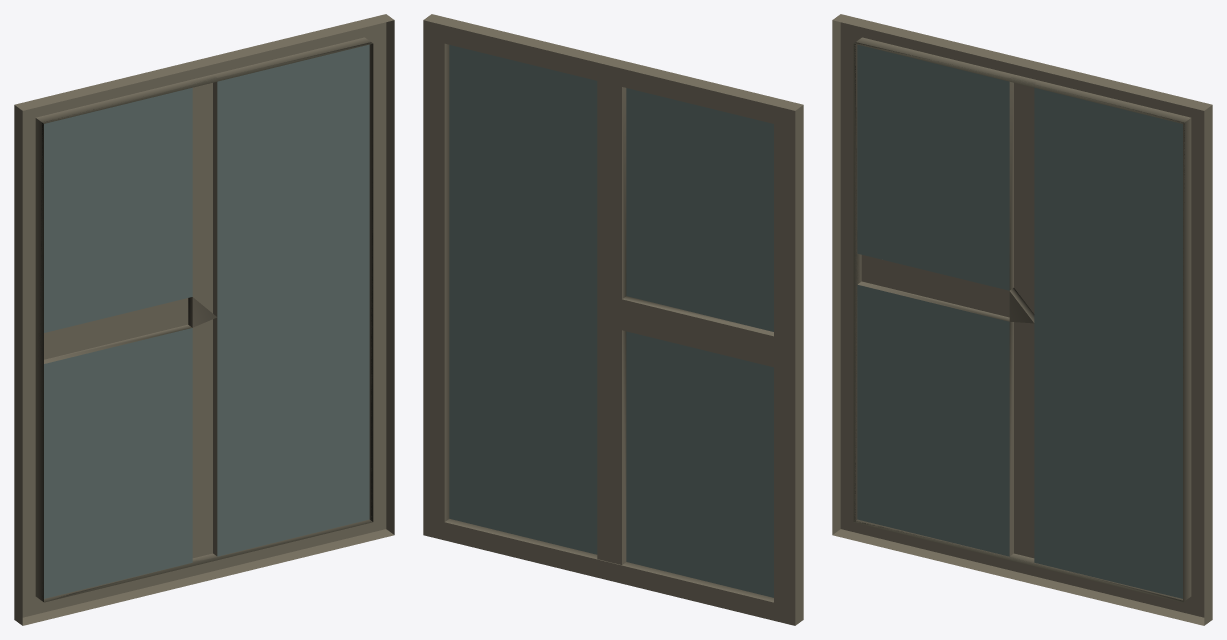
File: Flat_old_window_white_2.fbx
The picture shows the model from 3 angles, left to right: view 1: azimuth 30°, elevation 25°; view 2: azimuth 150°, elevation 25°; view 3: azimuth 330°, elevation 25°; orthographic projection.
Parts seen in each view (by area): view 1: Flat_old_window_white_2; view 2: Flat_old_window_white_2; view 3: Flat_old_window_white_2.
Boxes of the visible parts, x1,y1,x2,y2 form: Flat_old_window_white_2: (14,14,394,625); Flat_old_window_white_2: (423,14,803,625); Flat_old_window_white_2: (832,14,1212,625).
Bounding box in the file's own units: 2.39 × 0.0941 × 3.16.
